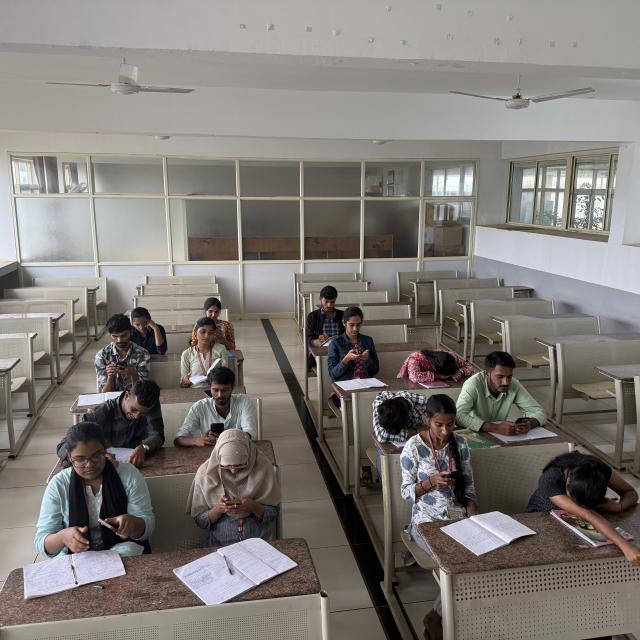Reading: (130, 301, 168, 354)
Sleeping: (533, 453, 640, 524), (371, 388, 437, 444), (396, 342, 476, 384)
Using Phone: (39, 424, 152, 559), (188, 430, 287, 536), (407, 396, 485, 514), (461, 345, 550, 431), (171, 364, 260, 446), (85, 312, 149, 388), (329, 307, 381, 376), (188, 295, 242, 343)
Writing: (51, 368, 175, 456), (304, 286, 348, 348)
